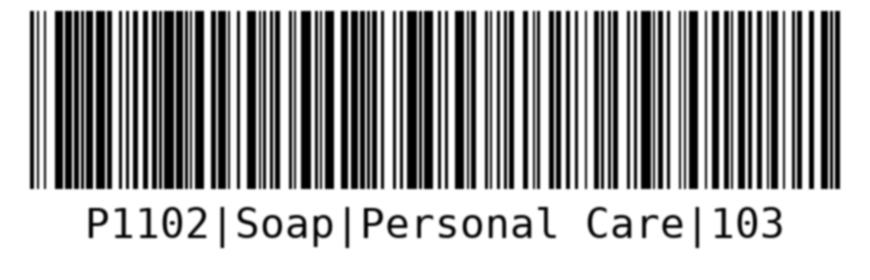milk: (26, 4, 847, 257)
